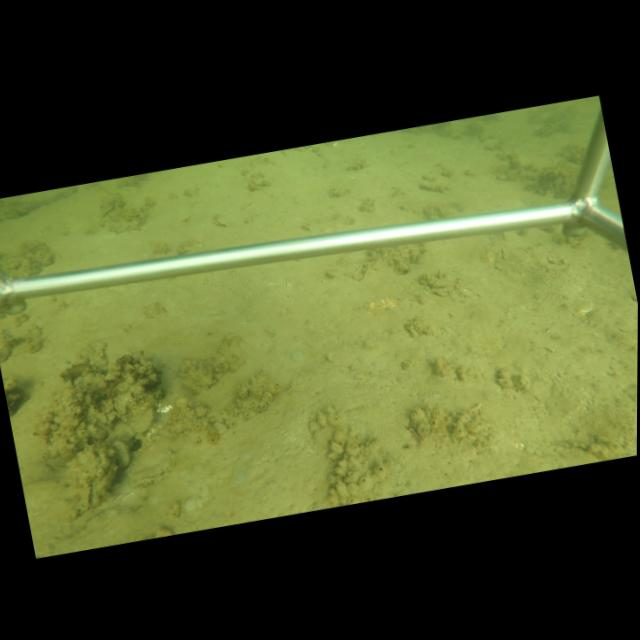Oyster-Closed: (78, 459, 118, 511), (126, 452, 178, 492), (129, 407, 159, 435), (112, 439, 133, 470)
